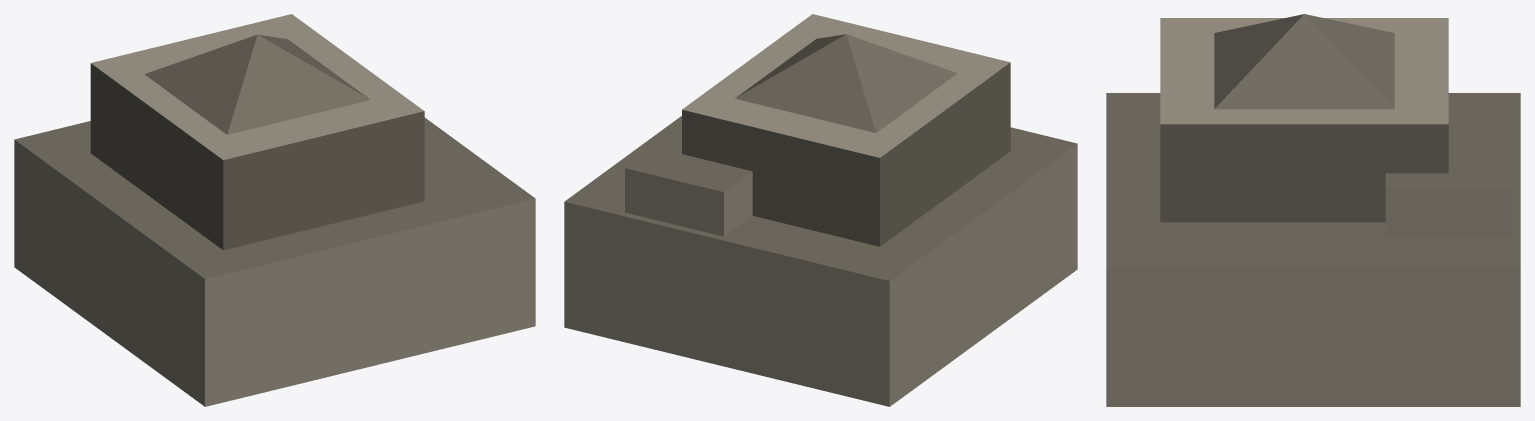
File: terr_rock.glb
The picture shows the model from 3 angles, left to right: view 1: azimuth 30°, elevation 25°; view 2: azimuth 150°, elevation 25°; view 3: azimuth 270°, elevation 25°; orthographic projection. The views are drawn at different scales.
Parts seen in each view (by area): view 1: terr_rock; view 2: terr_rock; view 3: terr_rock.
Part boxes in pixels (x1,y1,x2,y2): terr_rock: (14,14,535,406); terr_rock: (564,14,1077,406); terr_rock: (1106,14,1520,406).
Size of the model in its own units: 0.92 by 0.72 by 0.92.
1 material, 1 textured.
